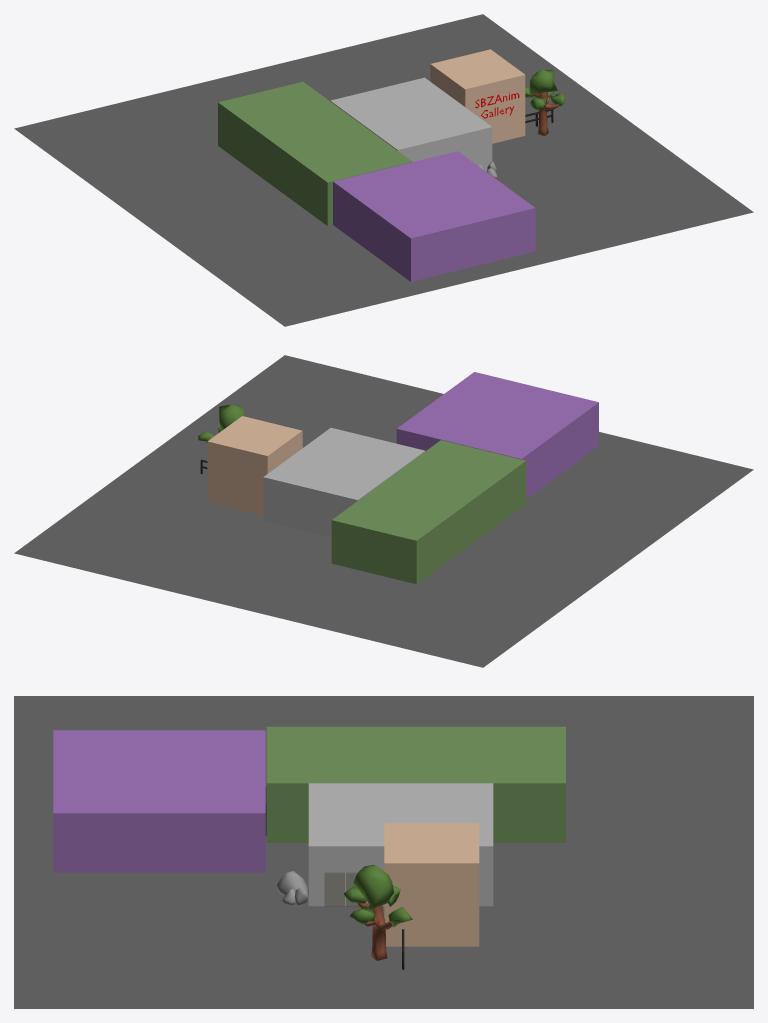
Rendered from Gallery.glb.
3 views of the same model, one above another, from view 1: azimuth 30°, elevation 25°; view 2: azimuth 150°, elevation 25°; view 3: azimuth 270°, elevation 25° (orthographic). The views are drawn at different scales.
Parts seen in each view (by area): view 1: ground, room.002, room.001, room.000, outer-wall, Tree A; view 2: ground, room.001, room.002, room.000, outer-wall, Tree A; view 3: ground, room.002, room.001, room.000, outer-wall, Tree A, door.main.
Part boxes in pixels (<box>): ground: <box>14,14,753,326</box>; room.002: <box>333,151,535,281</box>; room.001: <box>218,81,412,225</box>; room.000: <box>330,77,492,171</box>; outer-wall: <box>430,49,525,143</box>; Tree A: <box>525,69,564,135</box>; ground: <box>14,355,753,667</box>; room.001: <box>331,440,526,584</box>; room.002: <box>396,372,598,498</box>; room.000: <box>263,427,425,537</box>; outer-wall: <box>207,416,302,515</box>; Tree A: <box>198,404,243,442</box>; ground: <box>14,696,753,1008</box>; room.002: <box>53,730,265,872</box>; room.001: <box>266,726,565,842</box>; room.000: <box>308,783,493,906</box>; outer-wall: <box>384,823,479,946</box>; Tree A: <box>343,864,412,960</box>; door.main: <box>324,872,366,906</box>.
Size of what is drawn, in the model's own units: 39.8 by 5.57 by 39.8.
